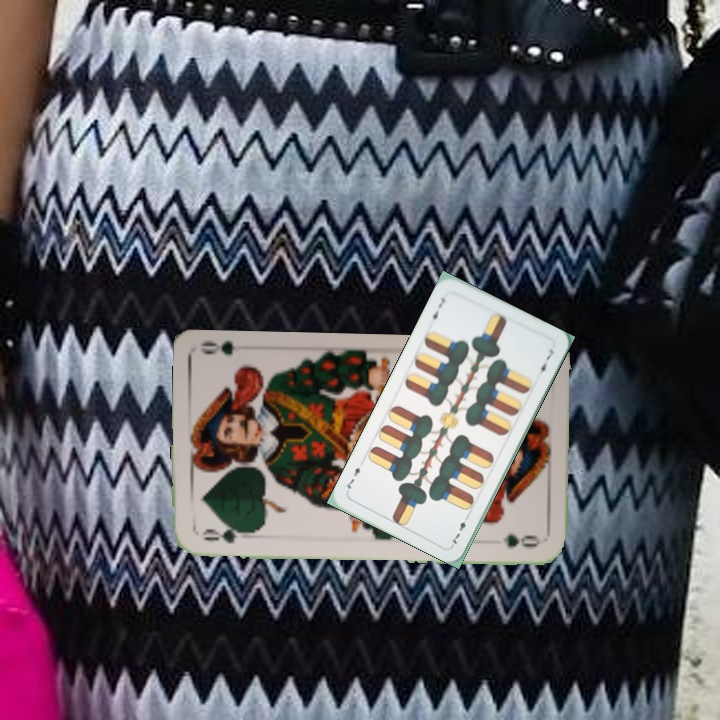E7: (447, 510, 472, 548), (425, 293, 447, 326)
GO: (198, 523, 252, 546)
